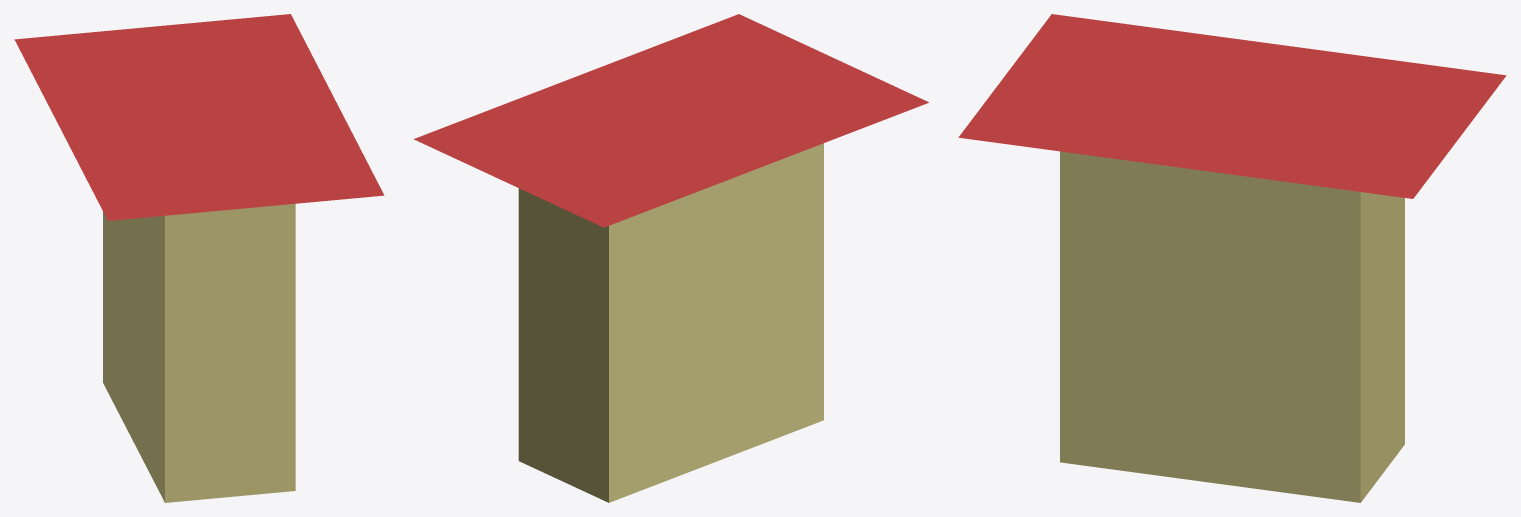
3 renders of one model, left to right at view 1: azimuth 30°, elevation 25°; view 2: azimuth 150°, elevation 25°; view 3: azimuth 270°, elevation 25°, orthographic. The views are drawn at different scales.
Bounding box in the file's own units: 5.41 × 6.78 × 4.73.
